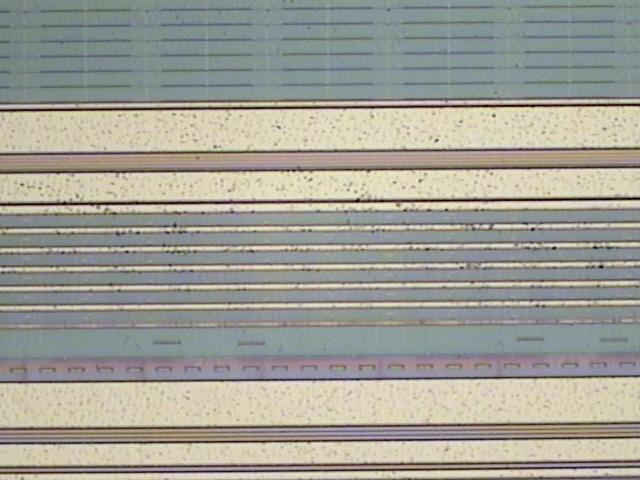PO CONTAMINATION: (1, 179, 624, 317)
